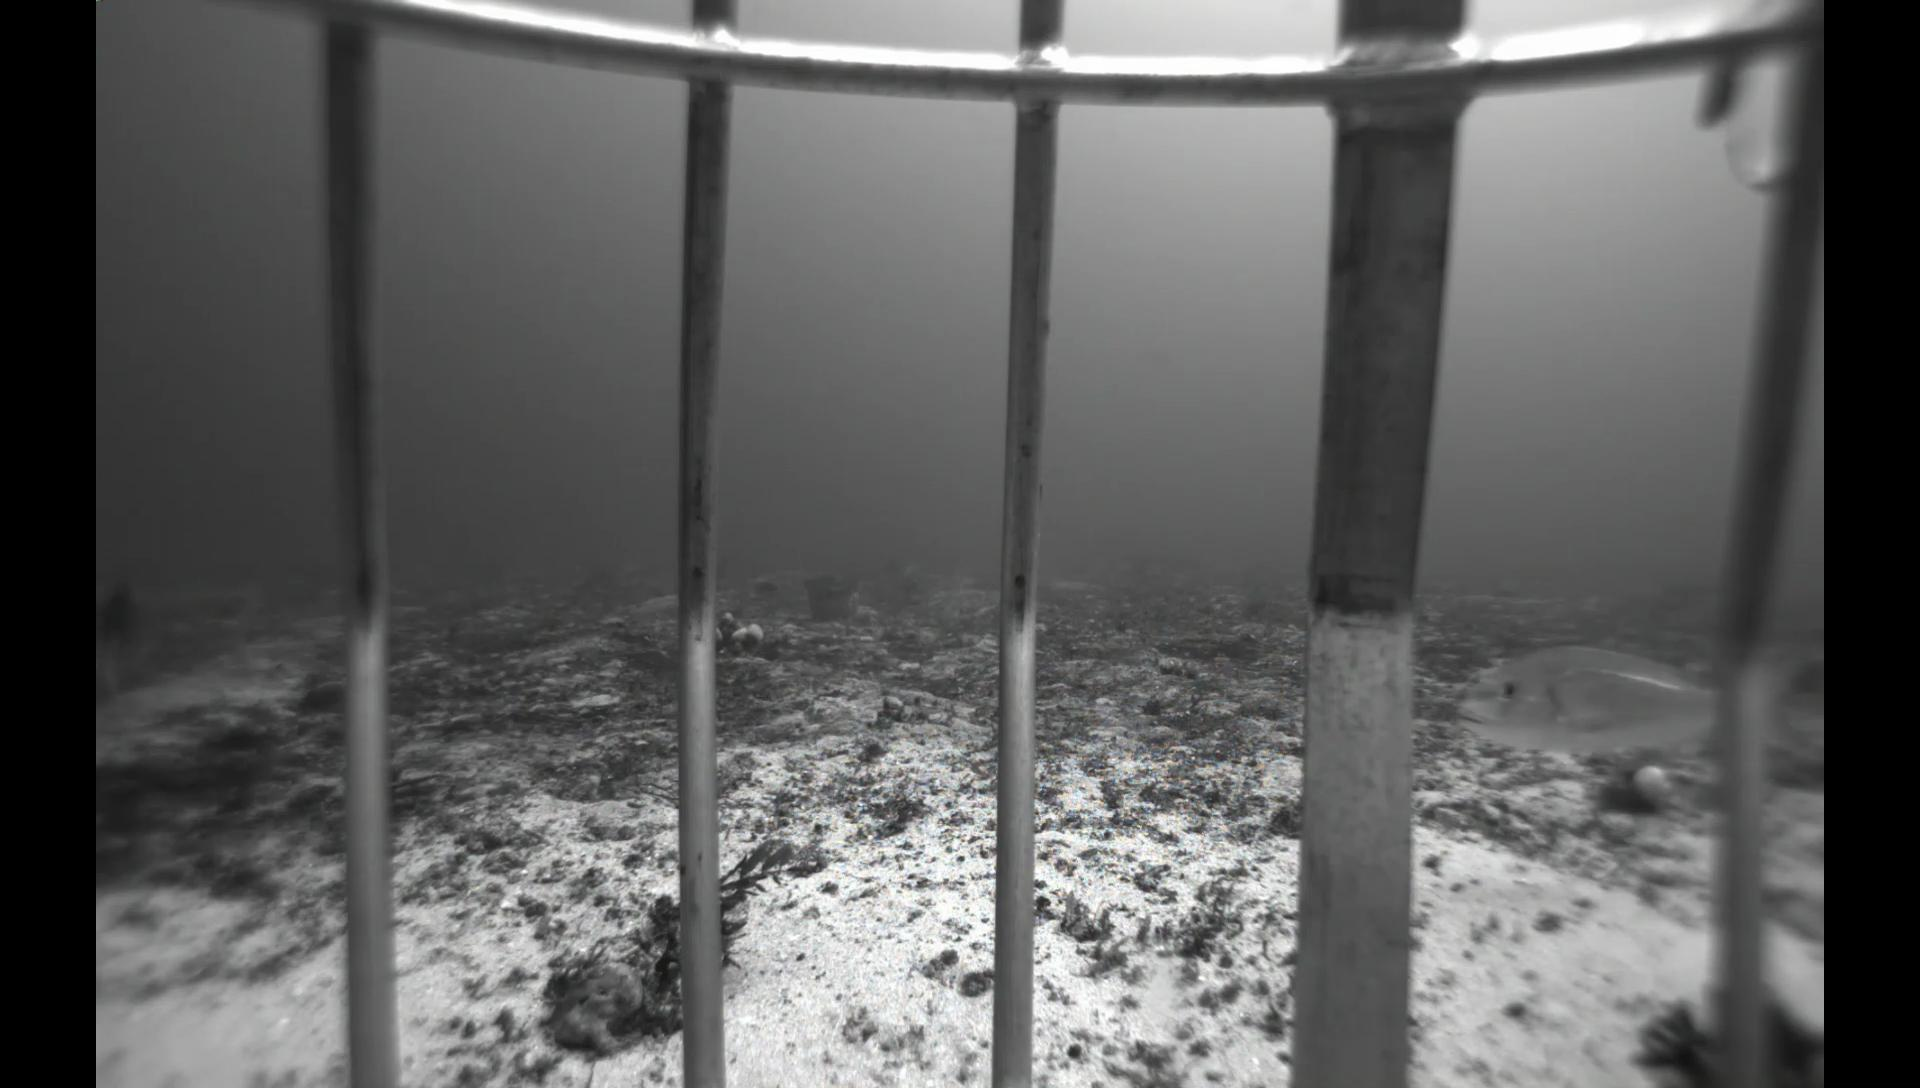CHAETODONOCELLATUS-170260307: (897, 558, 920, 582)
EPINEPHELUSMORIO-170021211: (96, 572, 160, 667)
PAGRUSPAGRUS-170212302: (1437, 628, 1812, 775)
PRISTIGENYSALTA-170050401: (290, 674, 348, 720)
